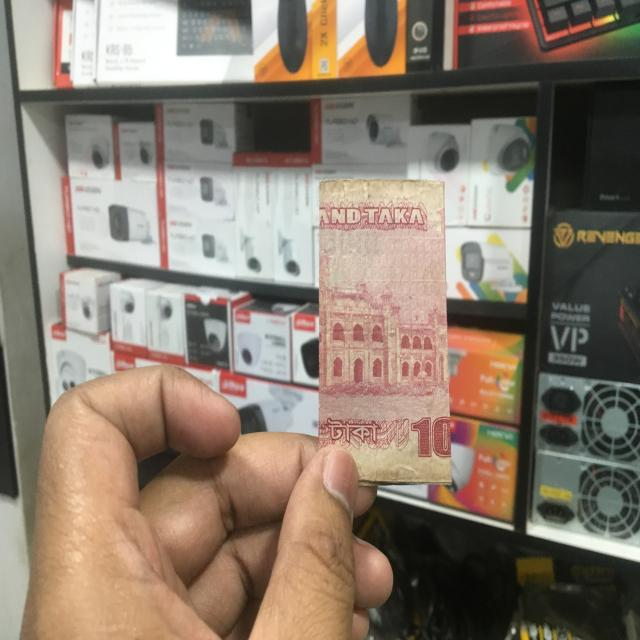Taka: (312, 179, 458, 494)
